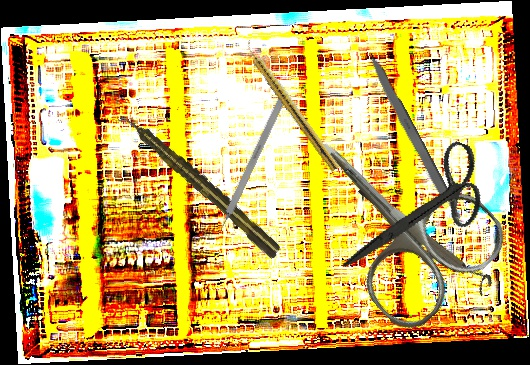Fixation Ring: (355, 177, 496, 297)
Handpiece: (115, 106, 286, 263), (240, 38, 343, 173)
Hook Surgical: (212, 92, 288, 242)
Iris Scissors: (271, 92, 516, 340), (341, 118, 500, 305)
Scalpel Handle: (363, 51, 464, 224)
